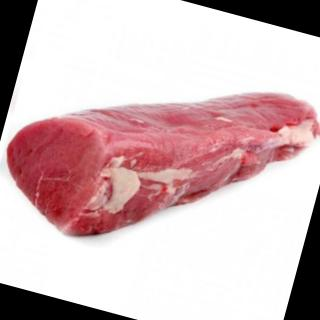Daging Sapi: (1, 25, 320, 295)
